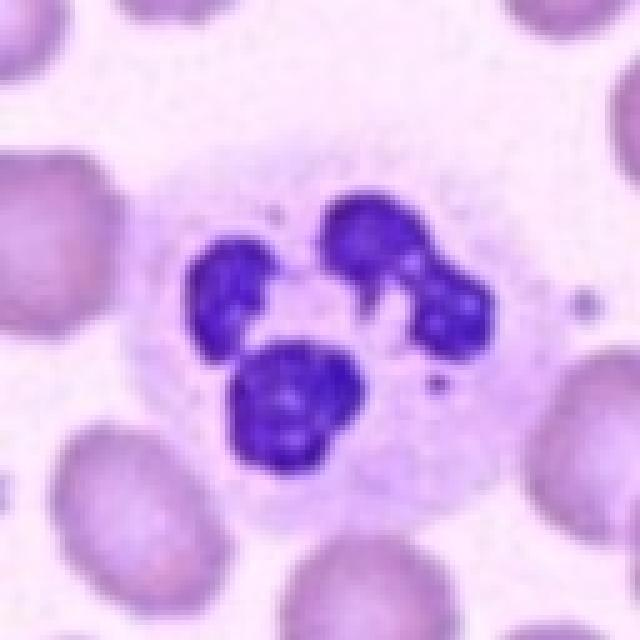neutro: (113, 94, 573, 524)
